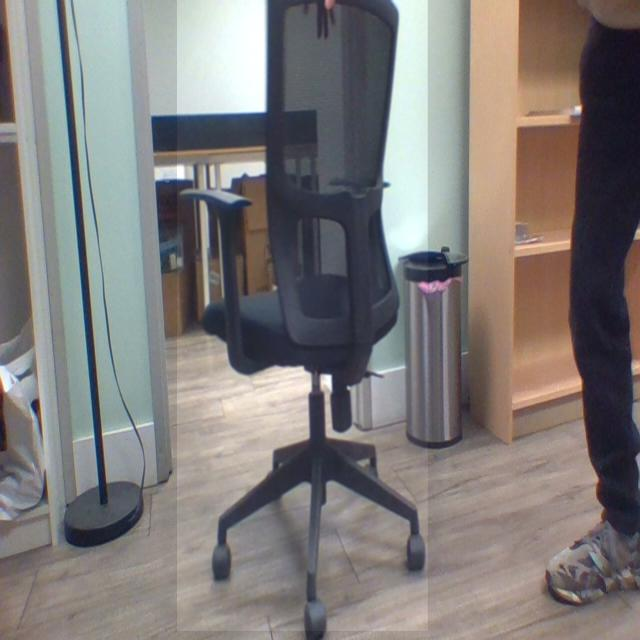black-chair: (177, 0, 429, 632)
